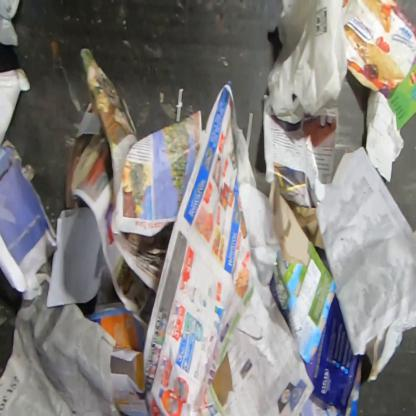cardboard: (268, 177, 338, 364), (306, 294, 366, 415), (386, 58, 415, 132)
soft_plastic: (266, 0, 363, 126), (344, 0, 415, 94)
